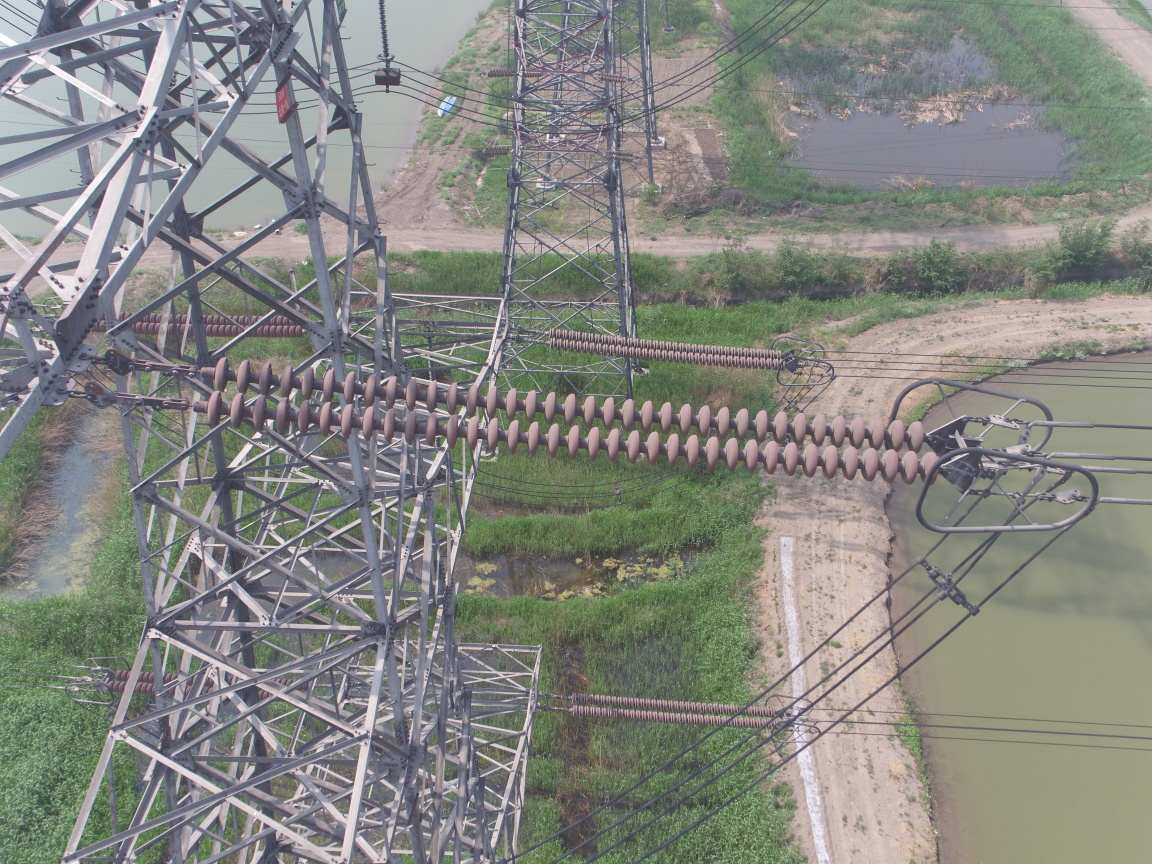insulator: (173, 354, 961, 489), (527, 323, 789, 371), (560, 690, 787, 731)
